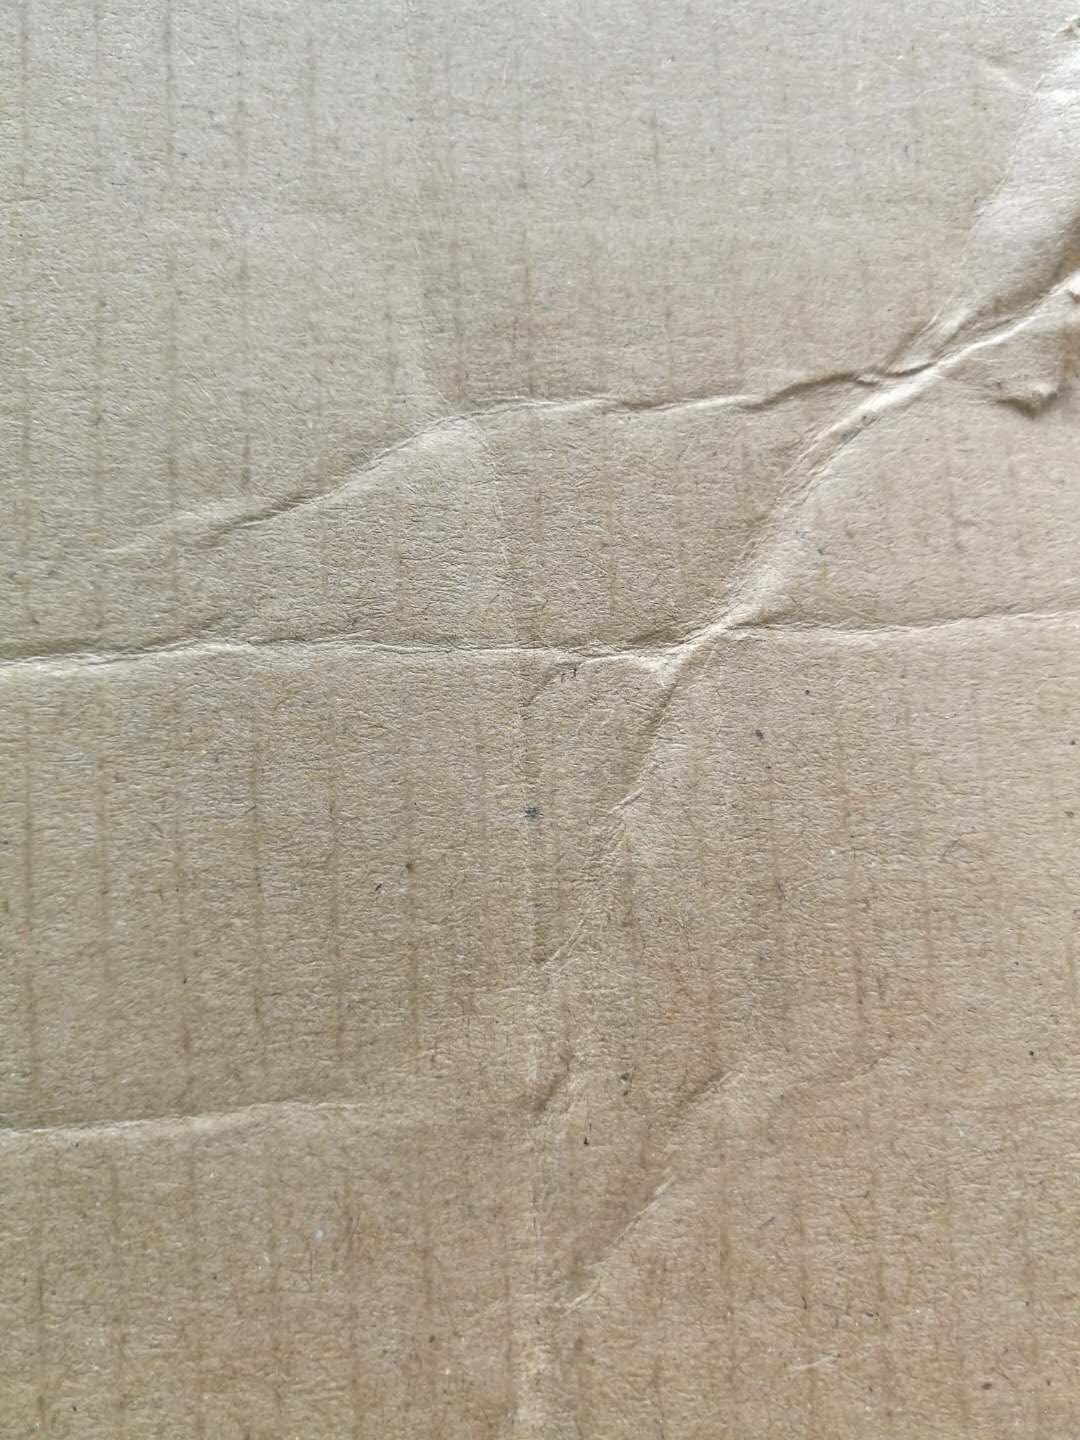defect: (493, 10, 1080, 1037), (6, 228, 1080, 723), (5, 979, 956, 1440)
